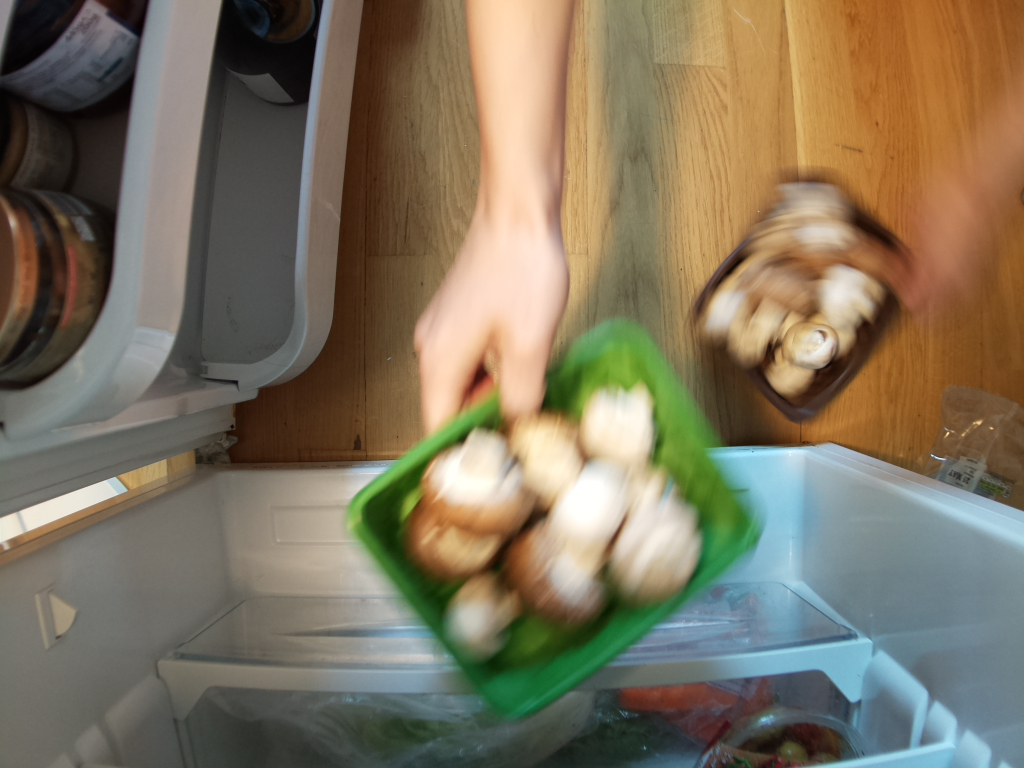mushrooms: (369, 323, 741, 676), (701, 176, 904, 400)
